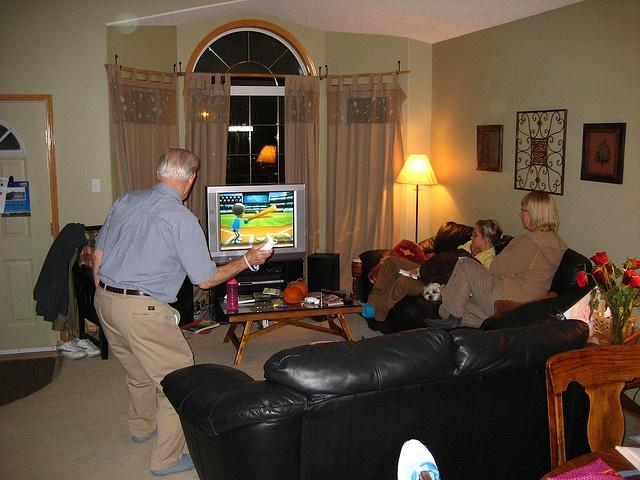AIO PC-Monitor-TV: (205, 182, 306, 263)
Meja: (215, 288, 365, 345)
